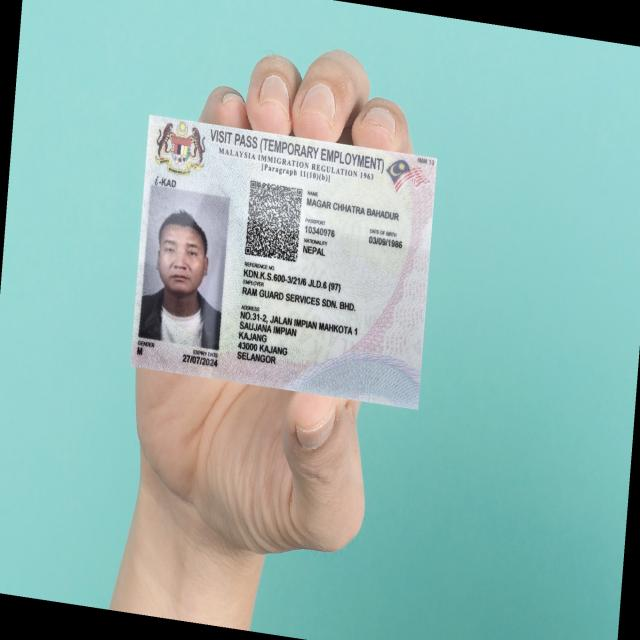ikad-temp: (130, 112, 438, 410)
